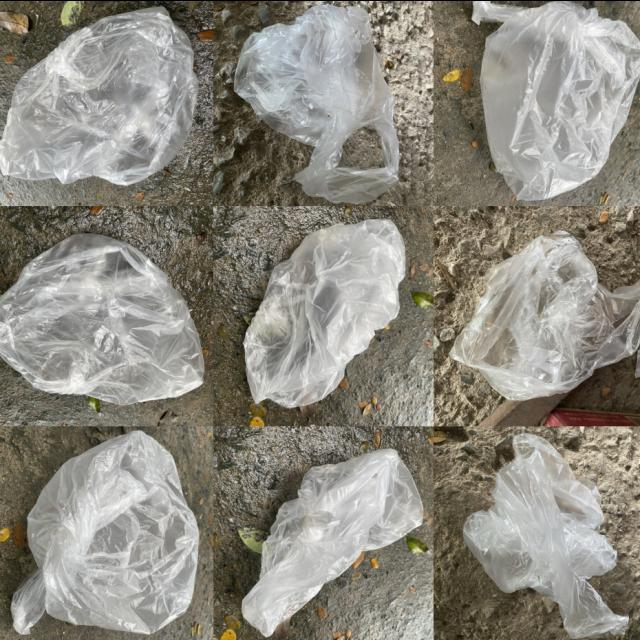plastik: (12, 430, 198, 633), (0, 6, 198, 184), (0, 233, 203, 404), (242, 448, 423, 635), (463, 433, 628, 638), (472, 0, 640, 199), (235, 4, 400, 203), (450, 230, 640, 399), (244, 218, 405, 407)
